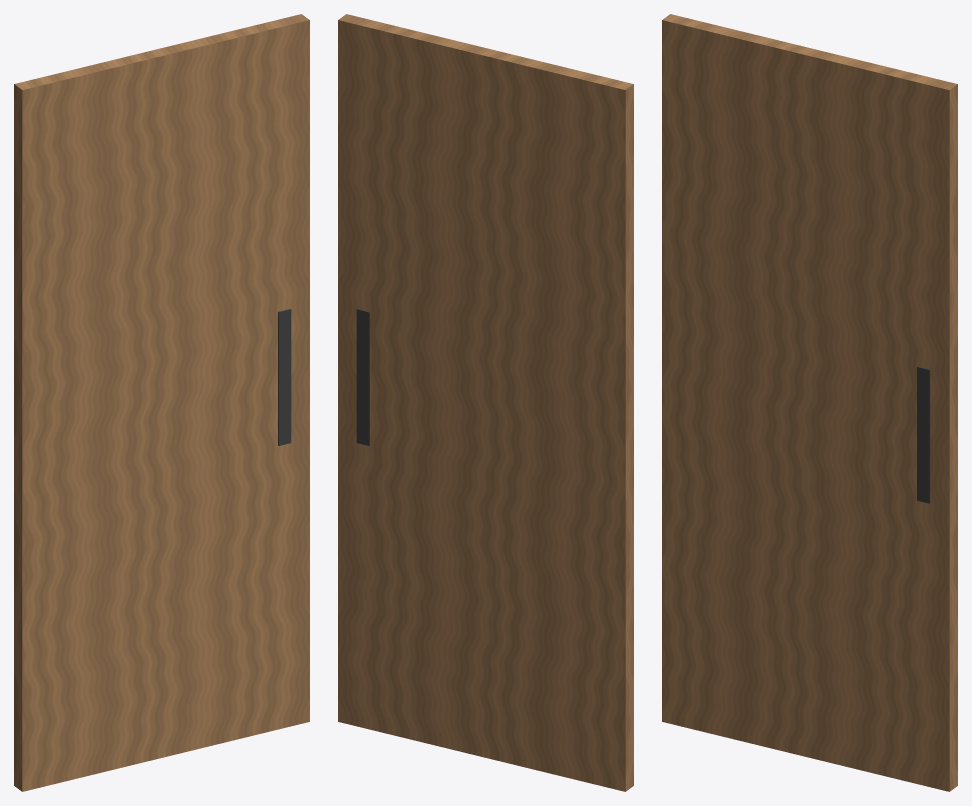
The model's file is mlo_door_sliding_oak.glb.
3 views of the same model, side by side, from view 1: azimuth 30°, elevation 25°; view 2: azimuth 150°, elevation 25°; view 3: azimuth 330°, elevation 25° (orthographic).
Parts seen in each view (by area): view 1: Door_Sliding_Oak; view 2: Door_Sliding_Oak; view 3: Door_Sliding_Oak.
Boxes of the visible parts, x1,y1,x2,y2 form: Door_Sliding_Oak: (14, 14, 309, 791); Door_Sliding_Oak: (338, 14, 633, 791); Door_Sliding_Oak: (662, 14, 957, 791).
Size of the model in its own units: 0.9 by 2.1 by 0.053.
Materials: 2 (1 with a texture image).
